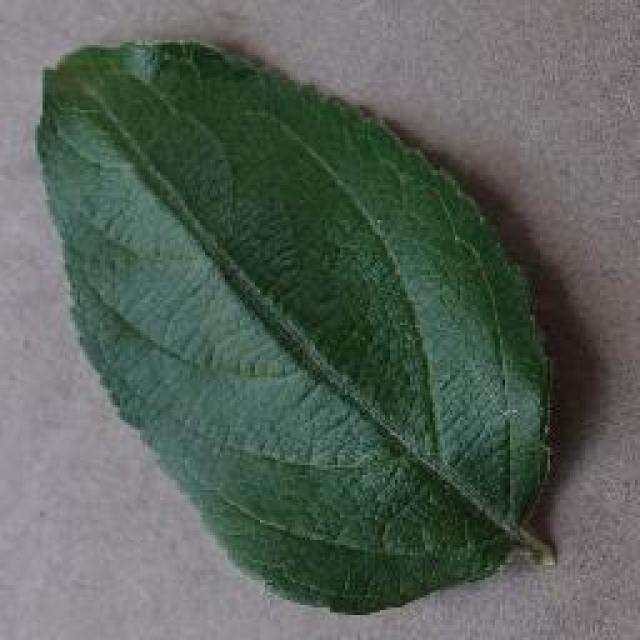apple healthy: (32, 33, 560, 615)
